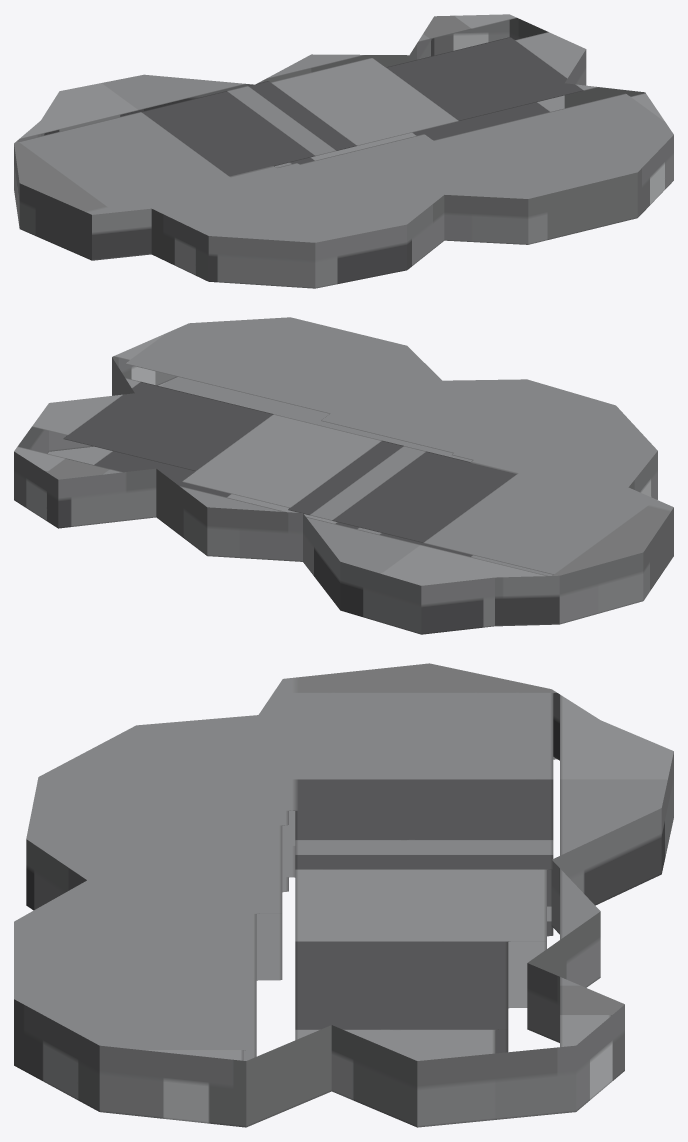
The picture shows the model from 3 angles, top to bottom: view 1: azimuth 30°, elevation 25°; view 2: azimuth 150°, elevation 25°; view 3: azimuth 270°, elevation 25°; orthographic projection. The views are drawn at different scales.
Size of the model in its own units: 0.8316 by 0.0648 by 0.5832.
